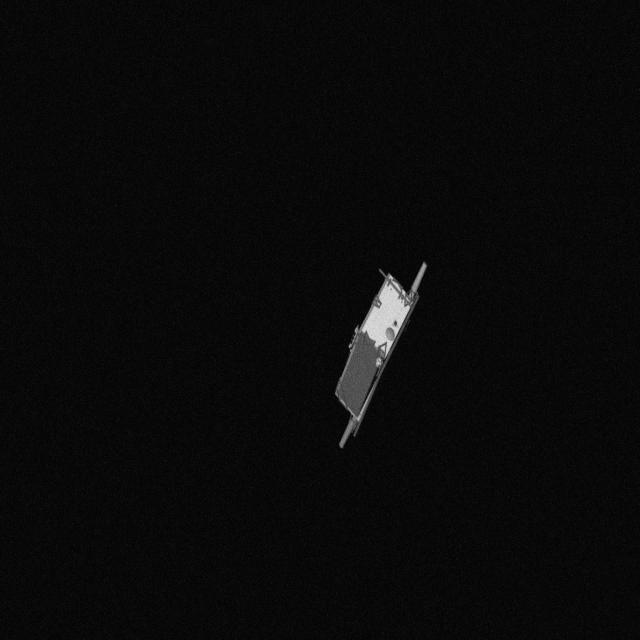medium_debris: (320, 252, 428, 452)
